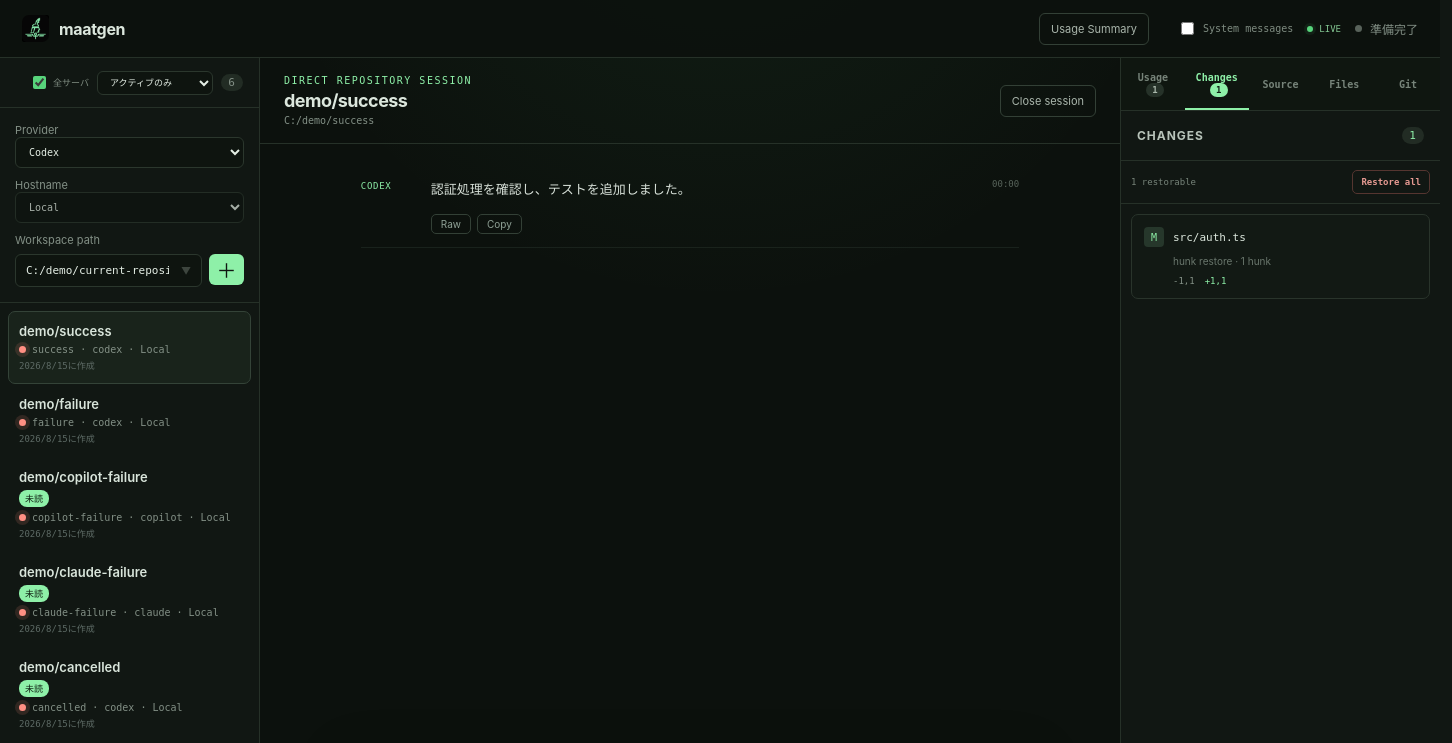
App with MockAgentApi › switches the side panel between Usage and Changes tabs
The width and height of the screenshot is (1452, 743).
Expected: the panel with id "changes-panel" is shown, [1121,111,1440,317]
Click the tab with id "usage-tab" at {"x": 1153, "y": 84}, box [1121,58,1185,110]
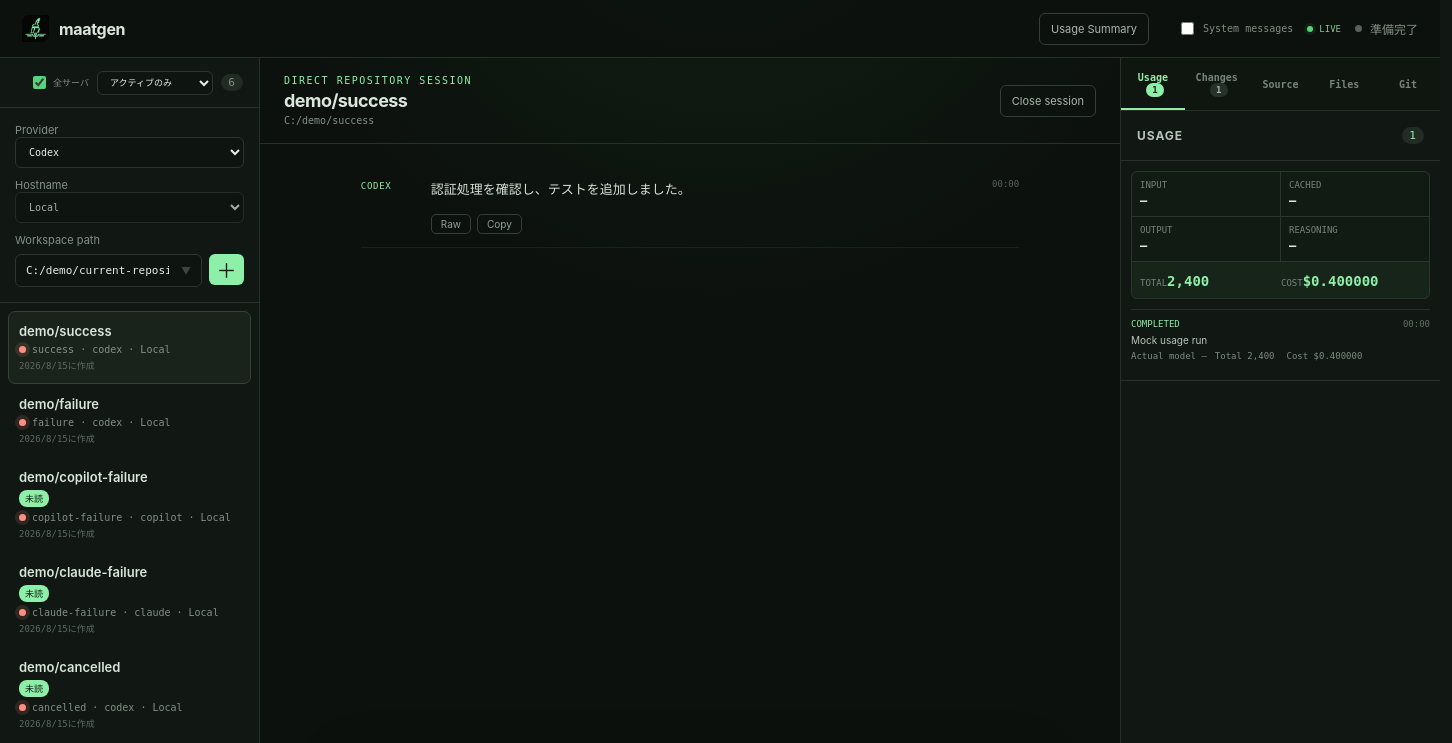
Now the panel with id "usage-panel" is shown, box [1121,111,1440,381]
